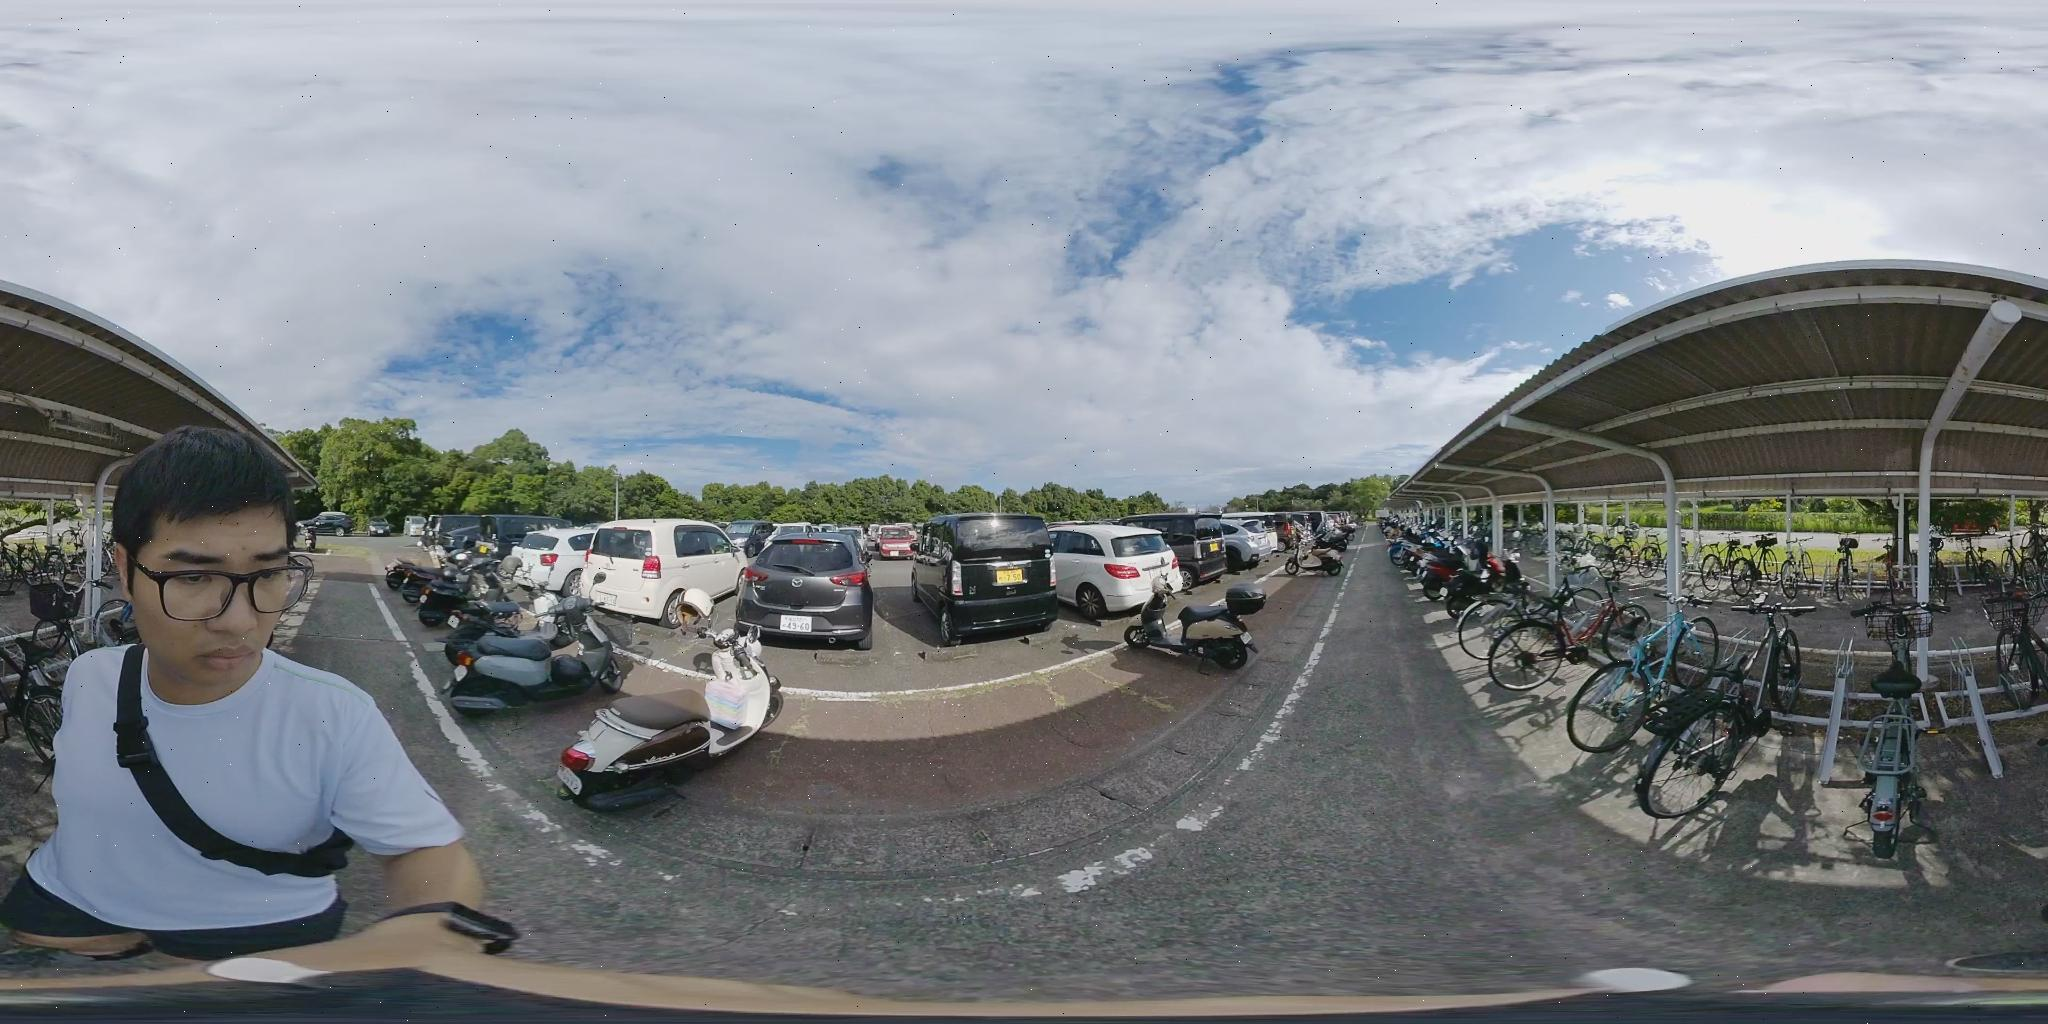car: (545, 520, 748, 626), (914, 513, 1062, 649), (742, 533, 875, 647), (1046, 524, 1194, 624), (1125, 515, 1266, 580), (869, 526, 918, 559)
